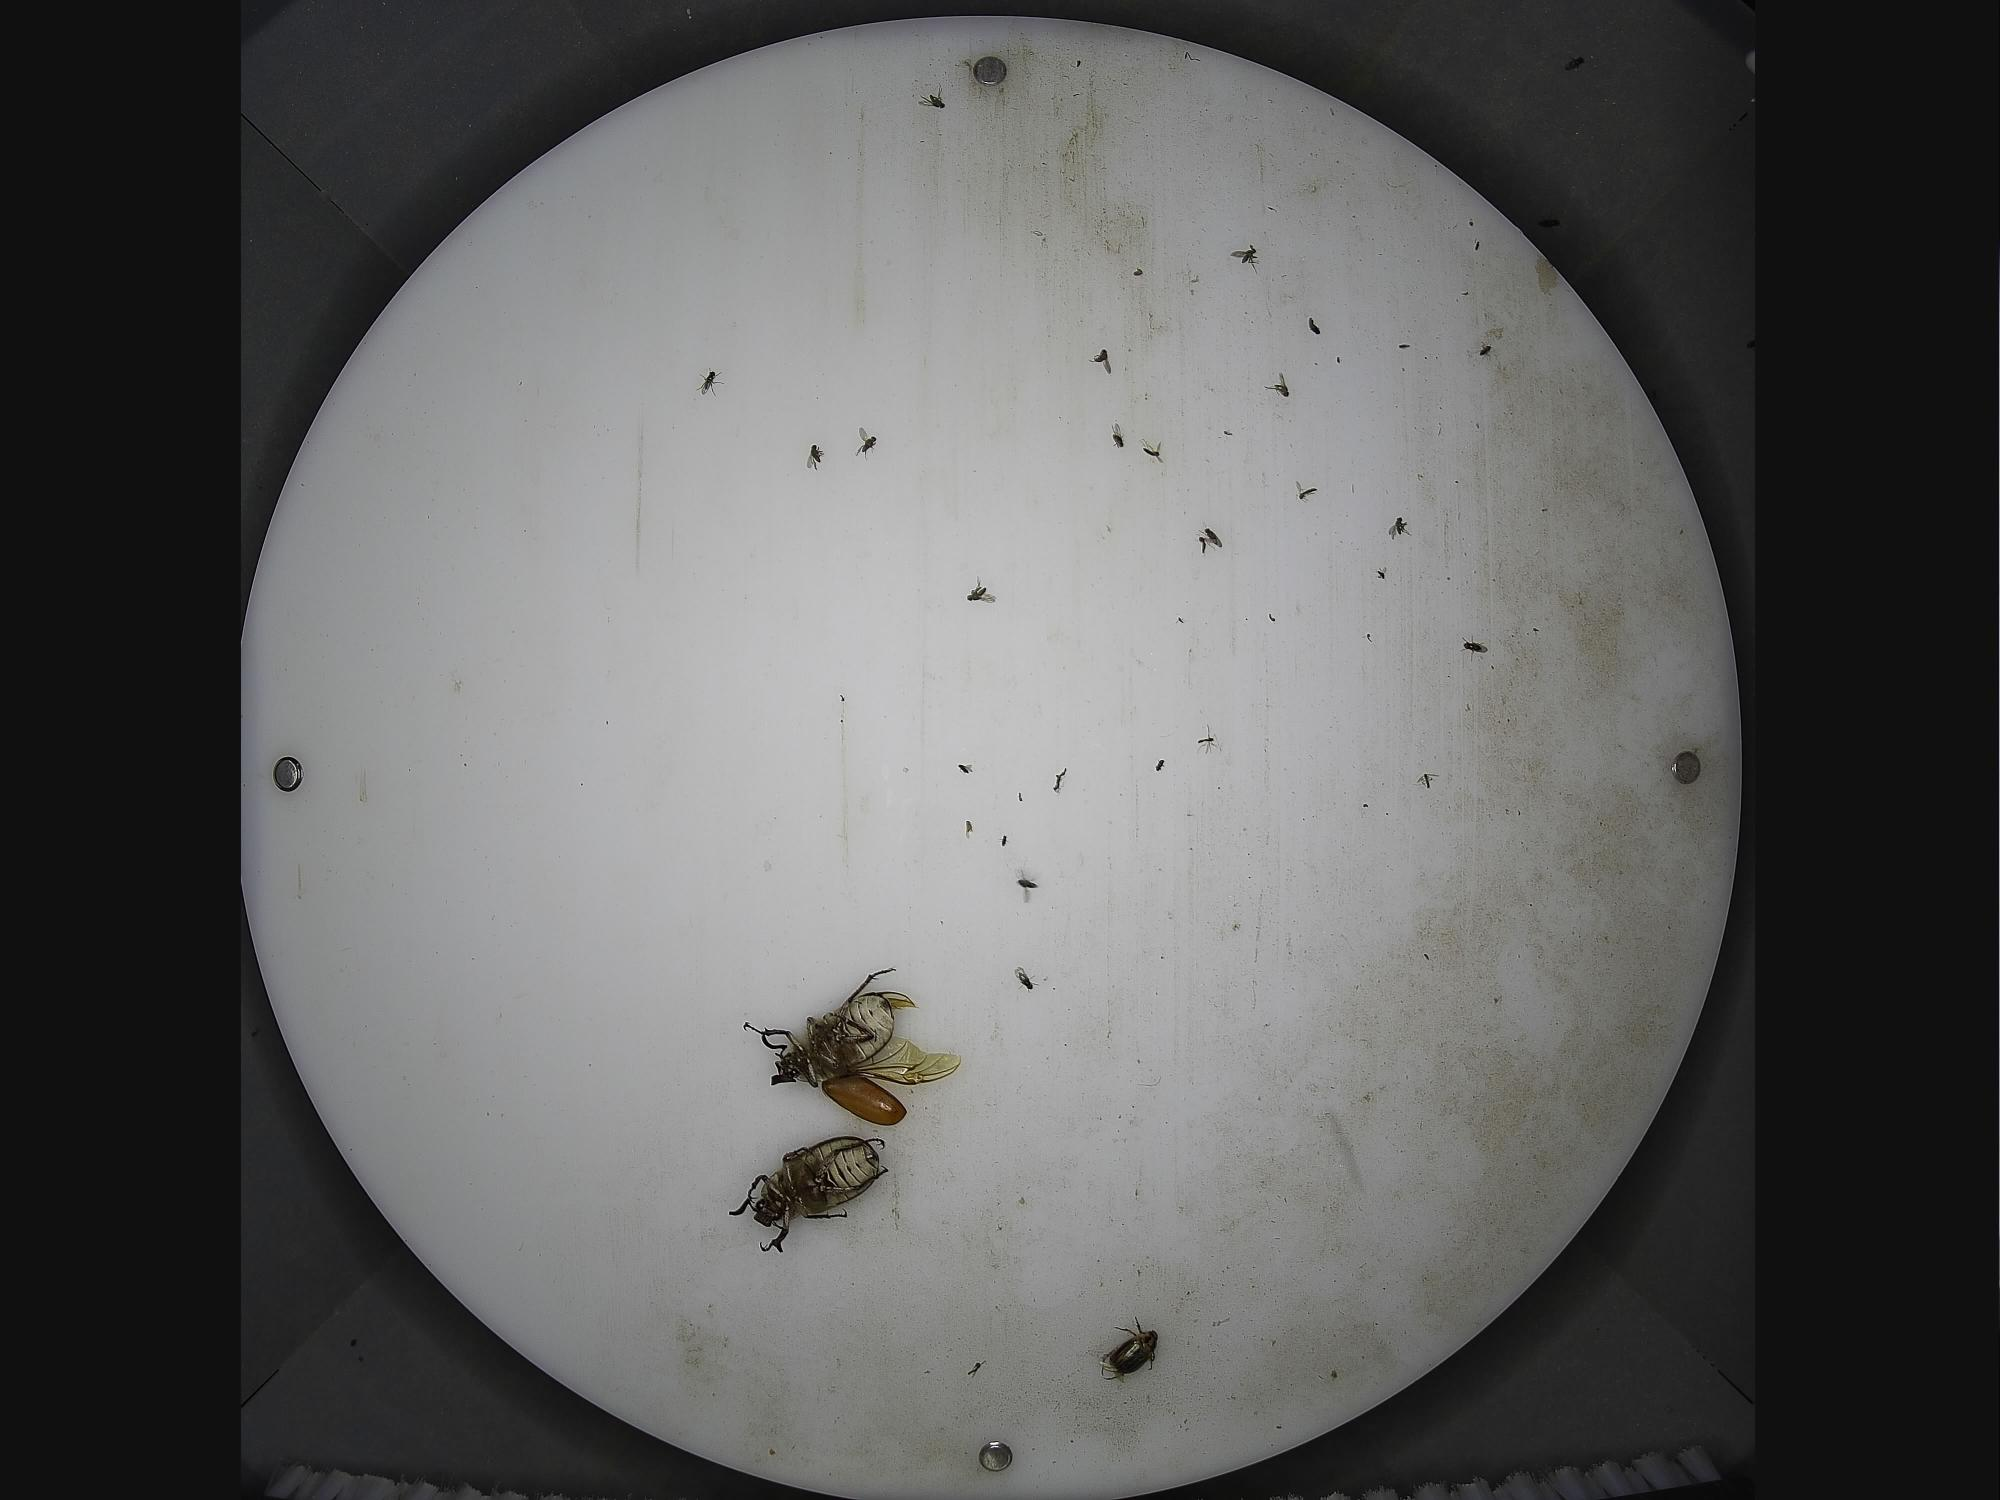Tiny fly: (849, 422, 883, 465), (1227, 241, 1263, 276), (964, 572, 1000, 607), (1458, 632, 1491, 665), (694, 367, 728, 399), (1014, 868, 1041, 904), (1260, 370, 1293, 399), (1011, 964, 1041, 994), (1386, 512, 1416, 542), (803, 440, 828, 474), (917, 82, 946, 110), (1135, 436, 1165, 465), (1087, 347, 1113, 377), (1293, 479, 1320, 506), (1109, 421, 1128, 451), (956, 763, 976, 777), (964, 816, 975, 841)
insect: (740, 964, 970, 1092), (726, 1131, 896, 1262), (1094, 1312, 1162, 1387)
